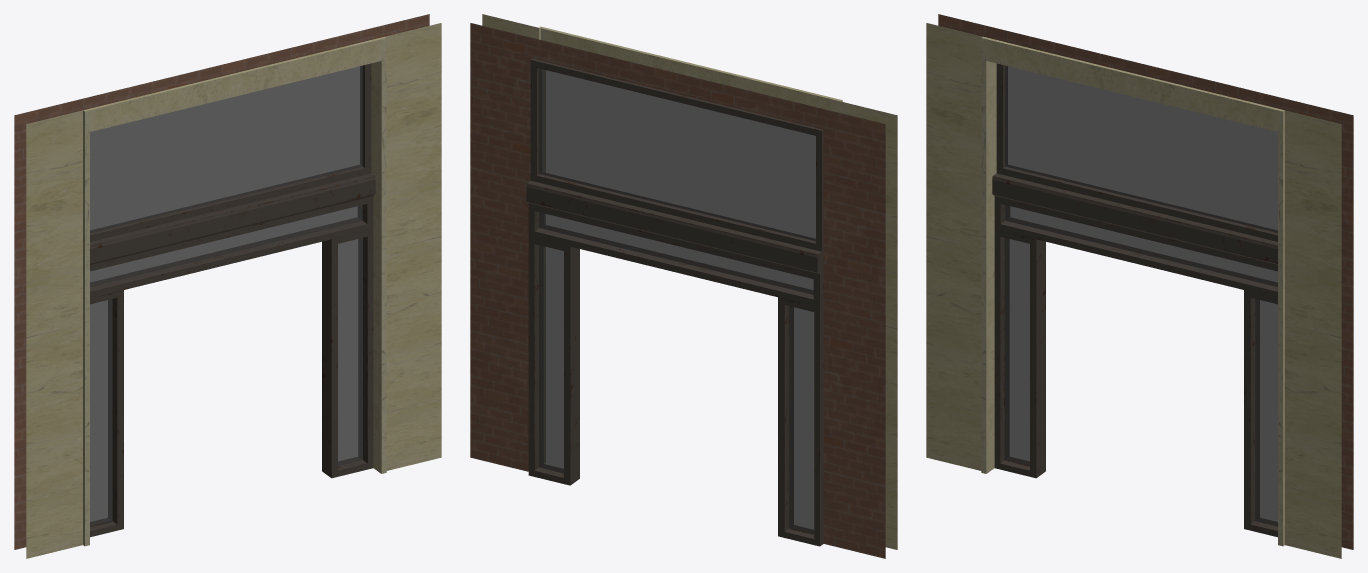
File: DoorFrame_Marble.gltf
3 views of the same model, side by side, from view 1: azimuth 30°, elevation 25°; view 2: azimuth 150°, elevation 25°; view 3: azimuth 330°, elevation 25° (orthographic).
Parts seen in each view (by area): view 1: DoorFrame_Marble; view 2: DoorFrame_Marble; view 3: DoorFrame_Marble.
Part boxes in pixels (x1=…): DoorFrame_Marble: x1=14, y1=14, x2=441, y2=558; DoorFrame_Marble: x1=470, y1=14, x2=897, y2=558; DoorFrame_Marble: x1=926, y1=14, x2=1353, y2=558.
Size of the model in its own units: 4 by 4 by 0.3305.
Materials: 4 (3 with a texture image).
